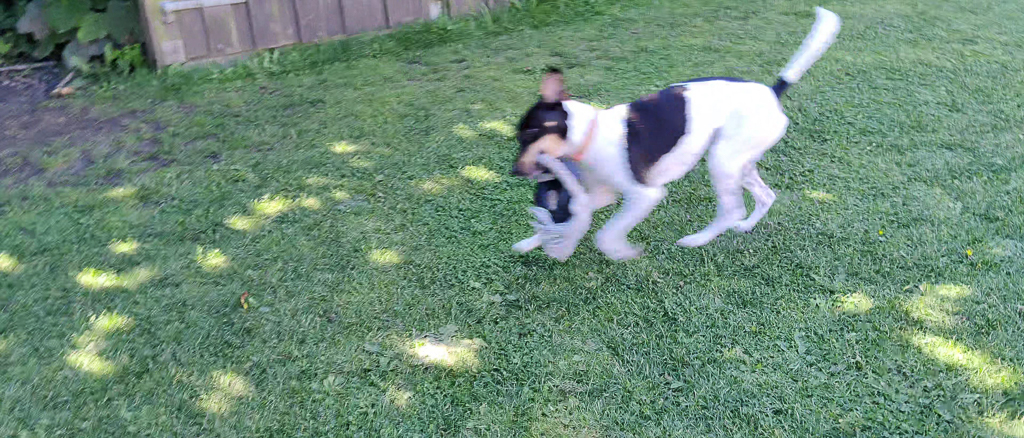Dog: (501, 0, 850, 266)
